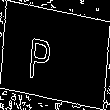P_N: (42, 28, 68, 82)
